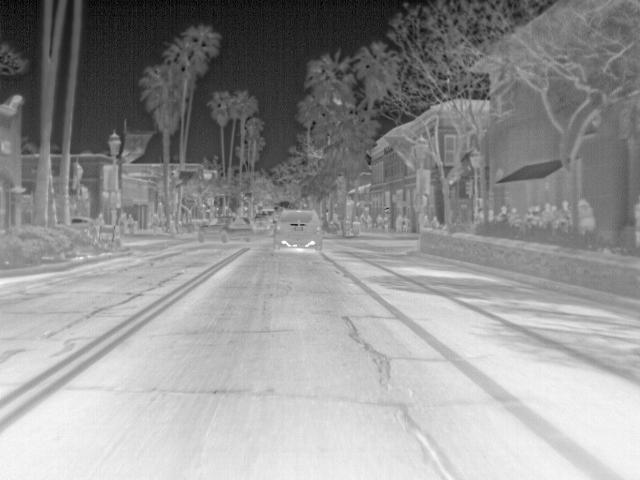car: (270, 207, 323, 251), (197, 218, 252, 244), (68, 216, 93, 228)
person: (576, 197, 597, 231), (554, 199, 572, 226), (539, 202, 554, 225), (494, 205, 510, 224), (117, 212, 126, 237), (509, 205, 520, 223), (93, 212, 106, 227), (126, 213, 134, 237), (430, 214, 440, 228), (421, 214, 430, 228)
